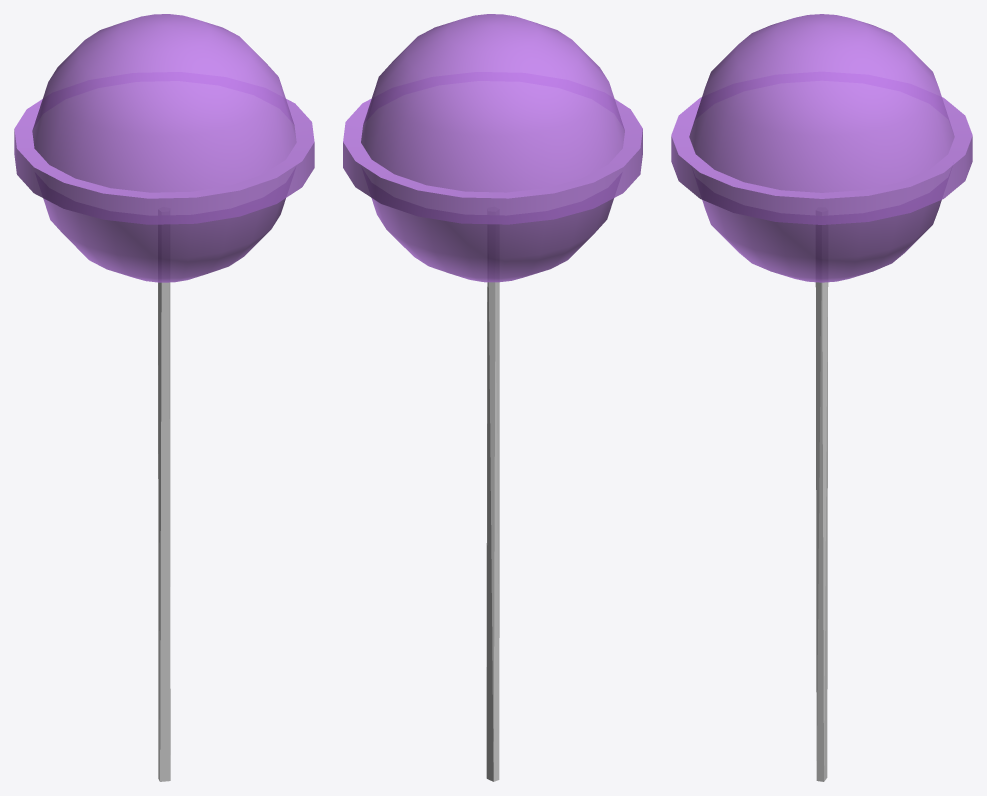
The model's file is lollipop-plant-purple.glb.
The picture shows the model from 3 angles, left to right: view 1: azimuth 30°, elevation 25°; view 2: azimuth 150°, elevation 25°; view 3: azimuth 270°, elevation 25°; orthographic projection.
Visible parts, largest first — view 1: lollipop-plant-purple; view 2: lollipop-plant-purple; view 3: lollipop-plant-purple.
Part boxes in pixels (bbox=[...]): lollipop-plant-purple: bbox=[14, 14, 314, 781]; lollipop-plant-purple: bbox=[343, 14, 642, 781]; lollipop-plant-purple: bbox=[671, 14, 972, 781].
Size of what is drawn, in the model's own units: 0.5415 by 1.49 by 0.5415.
